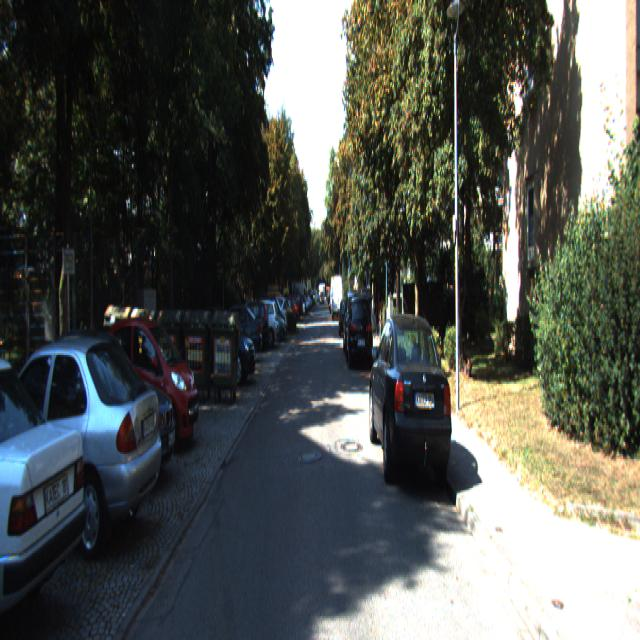Car: (0, 328, 166, 560), (13, 332, 180, 497), (0, 350, 92, 638), (367, 310, 451, 492), (96, 315, 199, 458), (190, 305, 256, 388), (208, 307, 262, 367), (230, 301, 270, 354), (346, 297, 372, 369), (331, 276, 342, 316)
